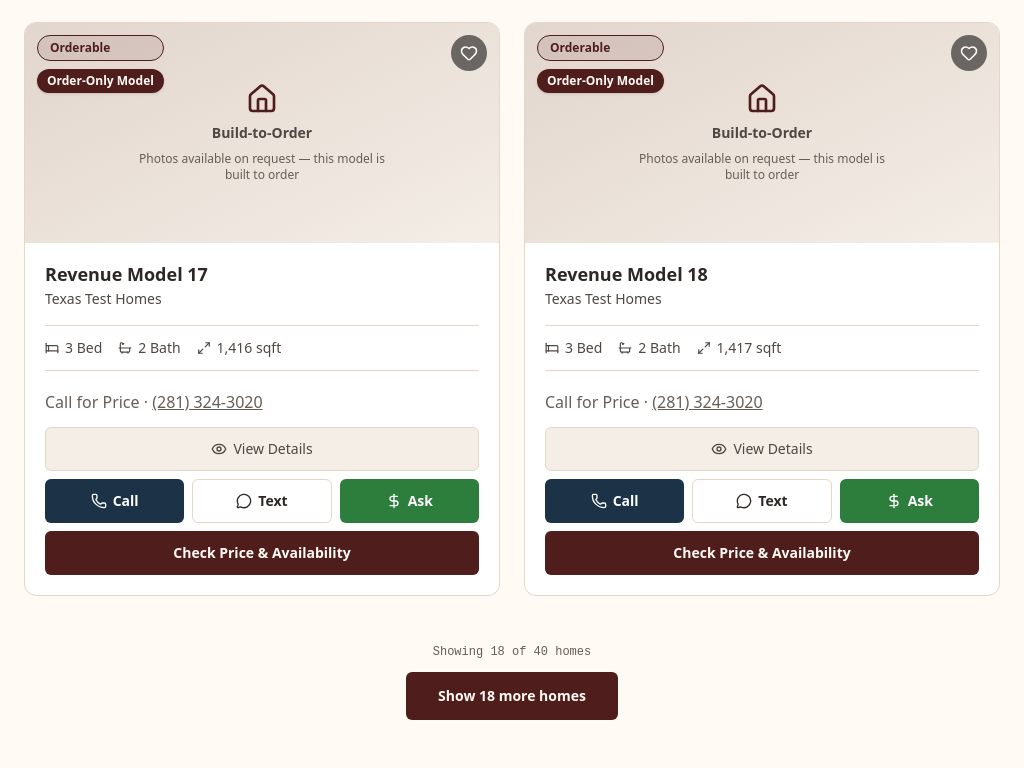
Test: InventoryBrowse progressive catalog rendering › renders a bounded first batch and exposes the remaining catalog
(page scrolled)
Click the button "Show 18 more homes" at (512, 696), box 406,672 -> 618,720
(page scrolled)
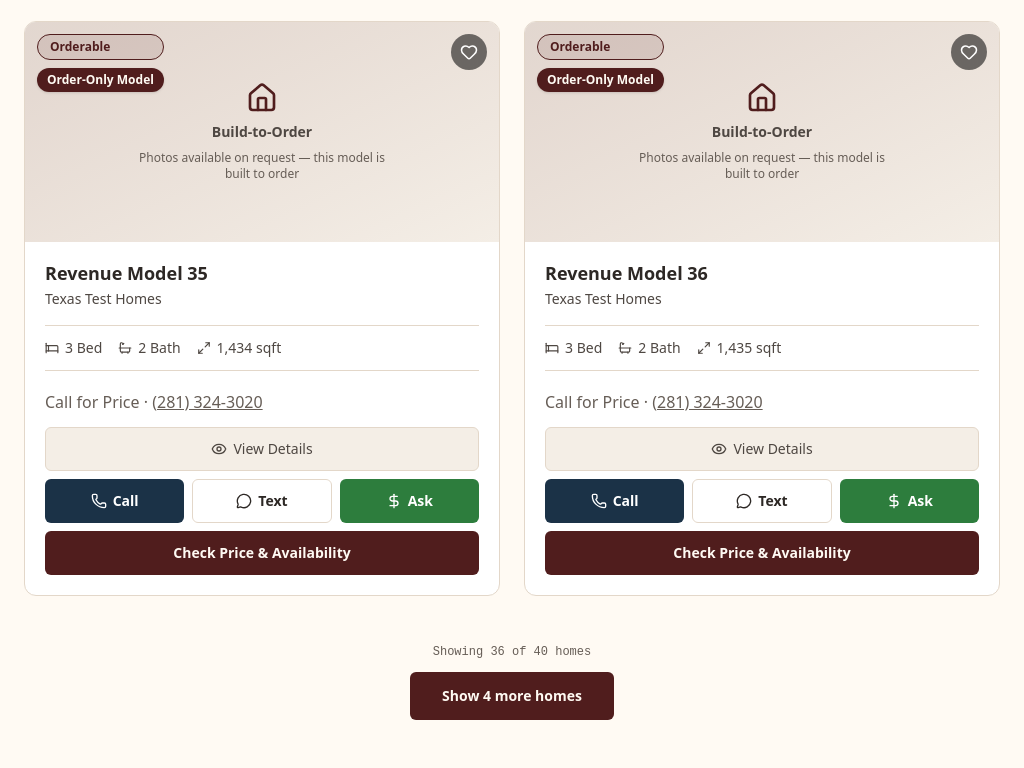
Result: the button "Show 4 more homes" is shown at 410,672 -> 614,720
